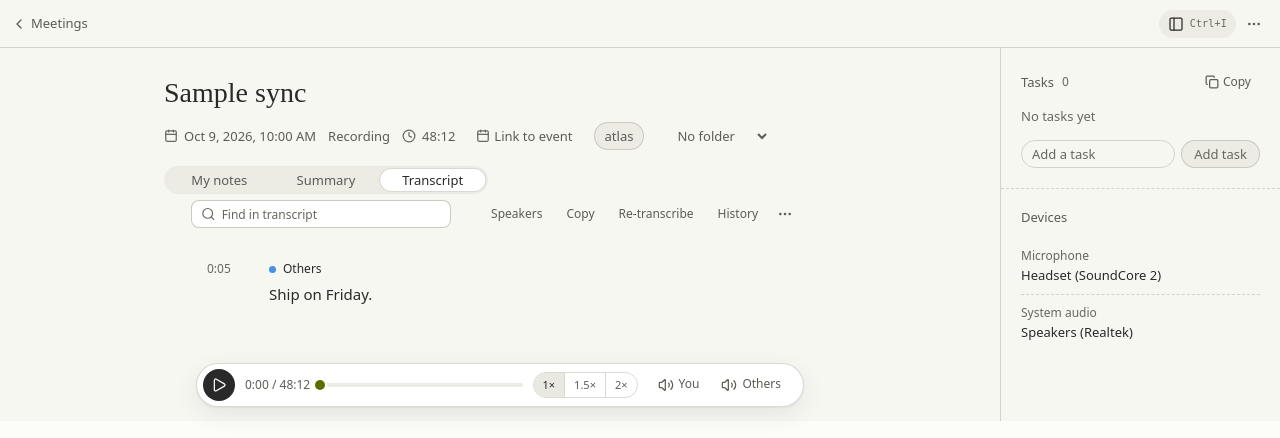
announces No matches when transcript Find has no results
This screenshot has width=1280, height=438.
Type "missing" into the search field labelled "Find in transcript" at (331, 214), box left=222, top=202, right=441, bottom=226
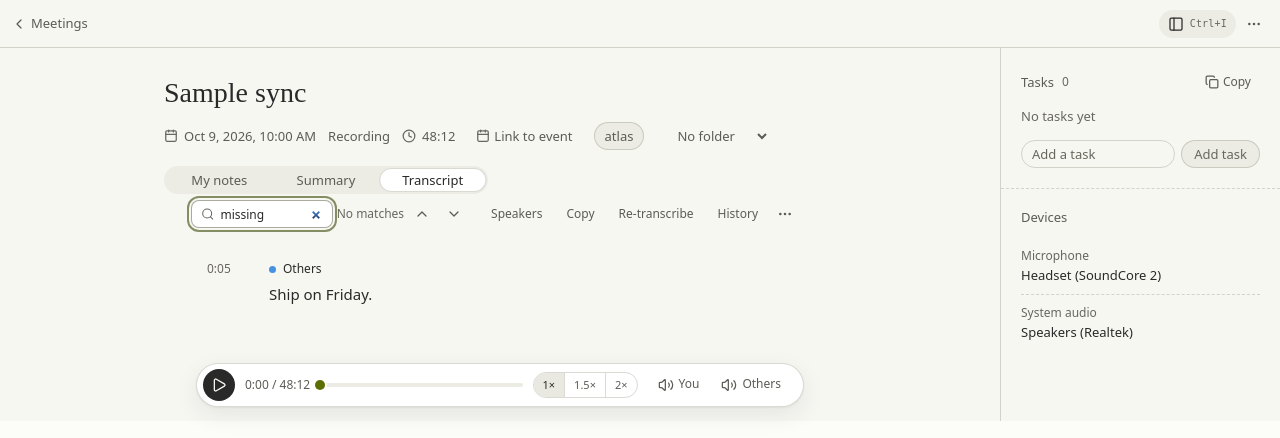
Clear the search field named "Find in transcript" at (272, 214), box left=220, top=202, right=323, bottom=226
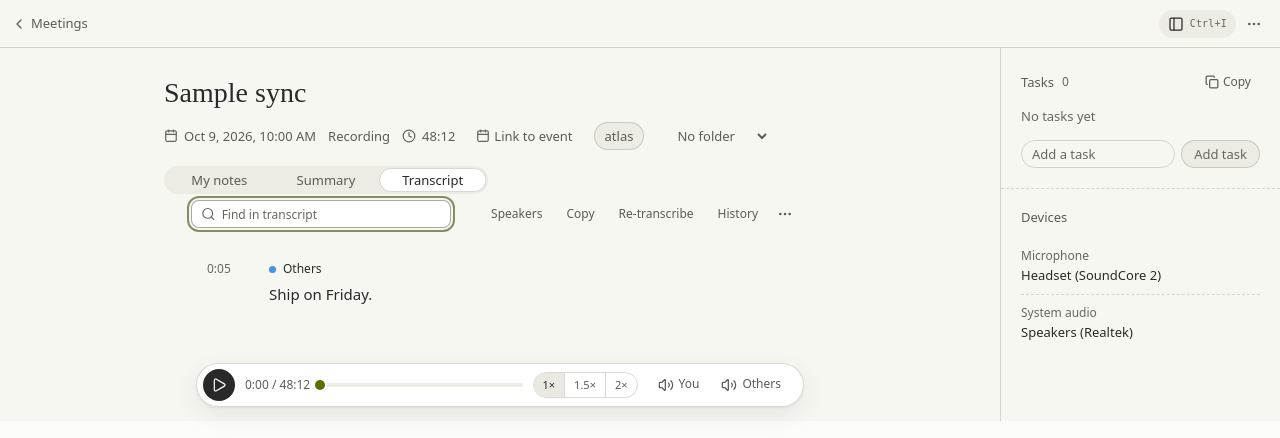
Type "Friday" into the search field labelled "Find in transcript" at (331, 214), box left=222, top=202, right=441, bottom=226
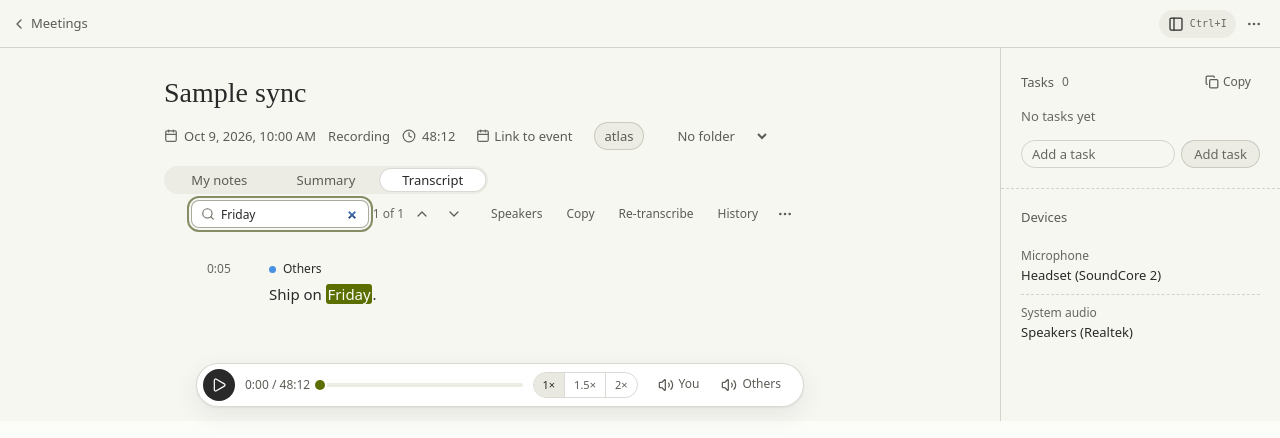
Result: the text "1 of 1" is shown at left=373, top=201, right=404, bottom=227
